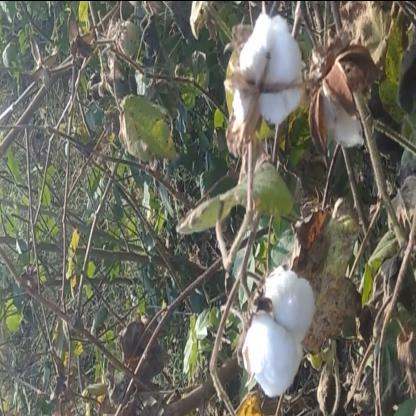cotton_ready: (236, 221, 316, 398), (219, 18, 316, 139)
